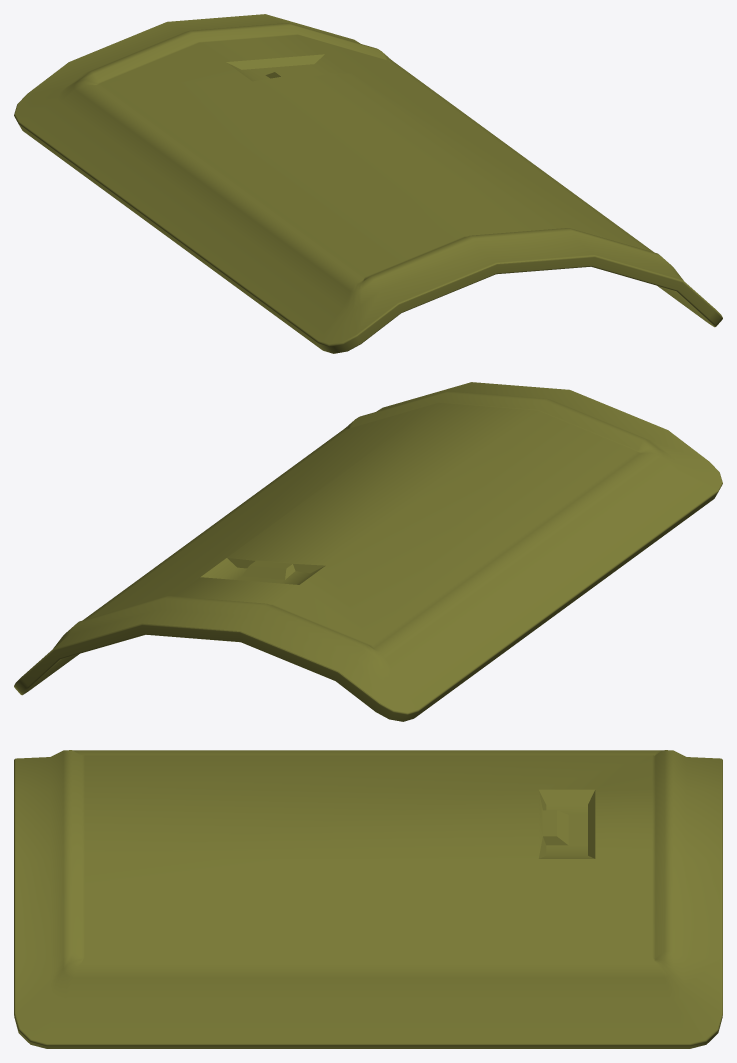
Rendered from bomb_a_Lid.fbx.
3 renders of one model, top to bottom at view 1: azimuth 30°, elevation 25°; view 2: azimuth 150°, elevation 25°; view 3: azimuth 270°, elevation 25°, orthographic. The views are drawn at different scales.
Visible parts, largest first — view 1: bomb_a_Lid; view 2: bomb_a_Lid; view 3: bomb_a_Lid.
Part boxes in pixels (x1=…): bomb_a_Lid: x1=14, y1=14, x2=722, y2=353; bomb_a_Lid: x1=14, y1=382, x2=722, y2=721; bomb_a_Lid: x1=14, y1=750, x2=722, y2=1048.
Bounding box in the file's own units: 43.84 × 14.2 × 62.83.
